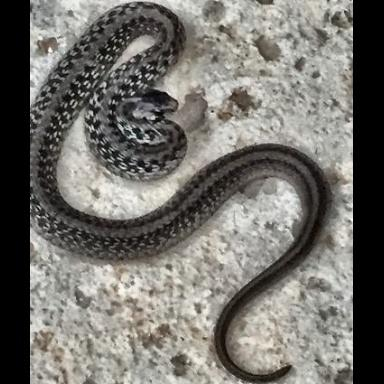snake: (33, 5, 330, 382)
